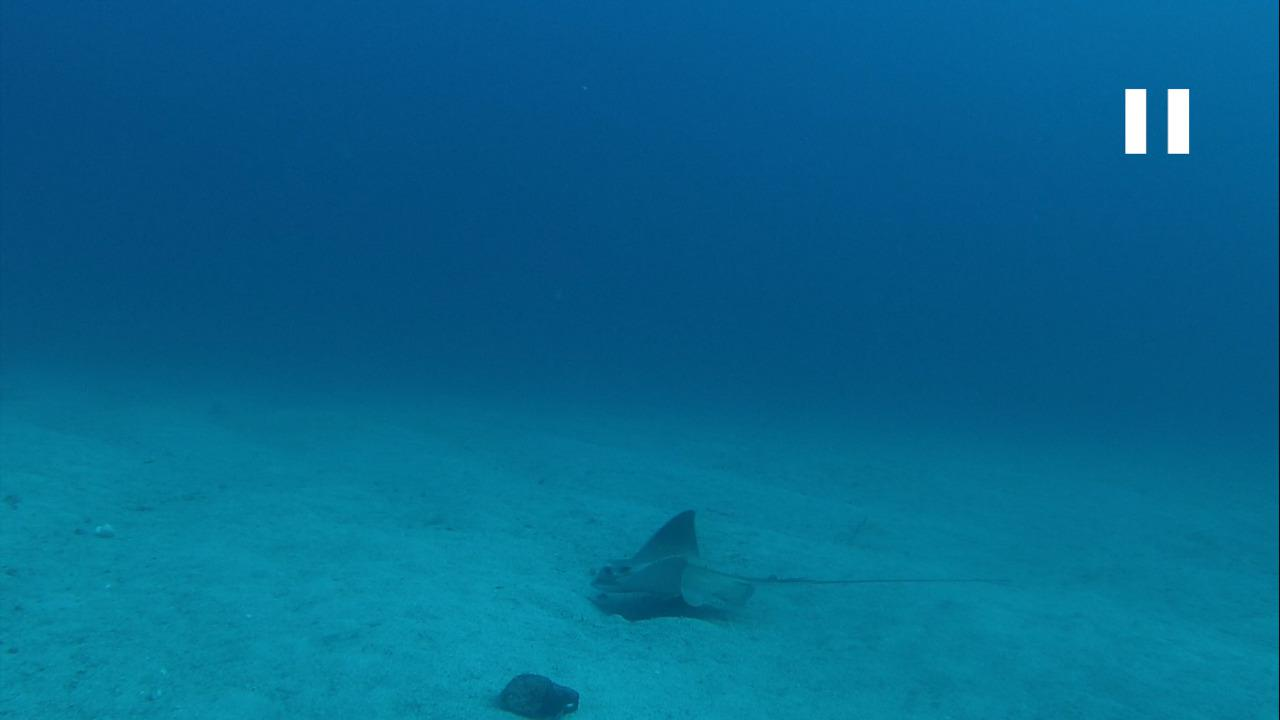myliobatis: (582, 506, 1001, 617)
